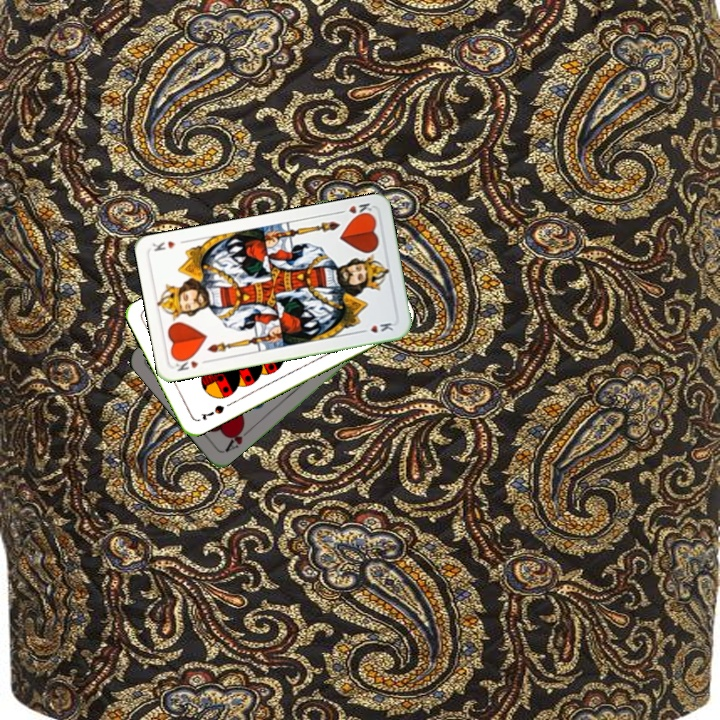HA: (220, 421, 254, 455)
HK: (171, 353, 211, 374), (344, 199, 376, 221)
S7: (198, 401, 227, 423)
